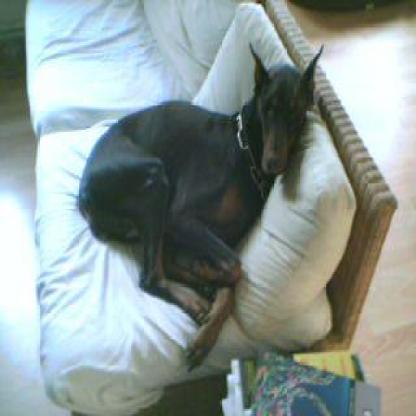Doberman: (75, 40, 321, 373)
